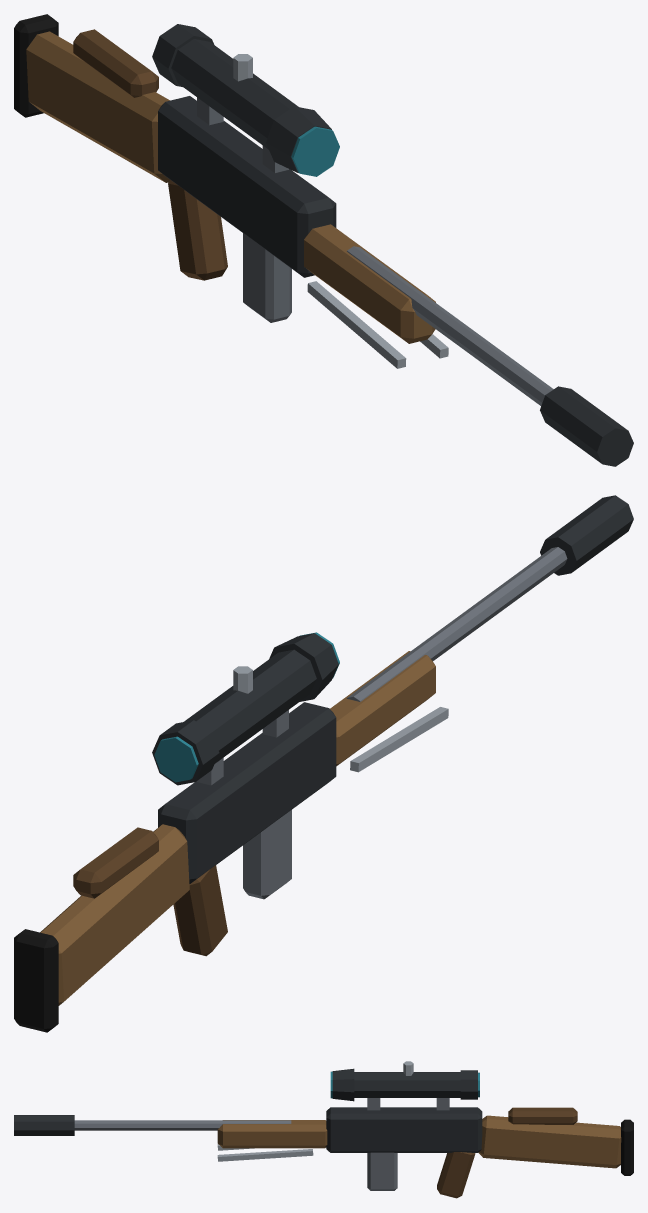
The model's file is marksman.glb.
3 views of the same model, one above another, from view 1: azimuth 30°, elevation 25°; view 2: azimuth 150°, elevation 25°; view 3: azimuth 270°, elevation 25° (orthographic). The views are drawn at different scales.
Visible parts, largest first — view 1: wpn_marksman; view 2: wpn_marksman; view 3: wpn_marksman.
Part boxes in pixels (x1,y1,x2,y2): wpn_marksman: (14,14,633,466); wpn_marksman: (14,495,633,1032); wpn_marksman: (14,1061,633,1198).
Size of the model in its own units: 0.064 by 0.2704 by 1.14.
1 material, 1 textured.
